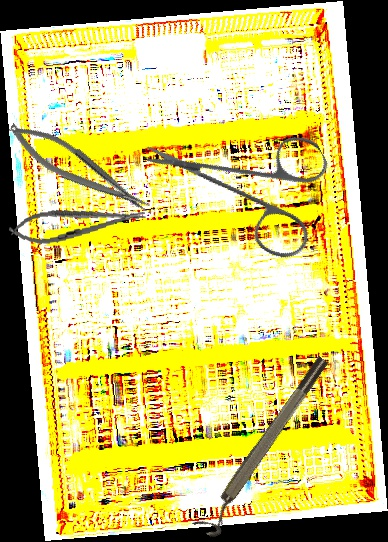Fixation Ring: (192, 353, 339, 541)
Iris Scissors: (141, 74, 359, 297)
Needle Holder: (2, 111, 155, 227), (7, 198, 148, 250)
